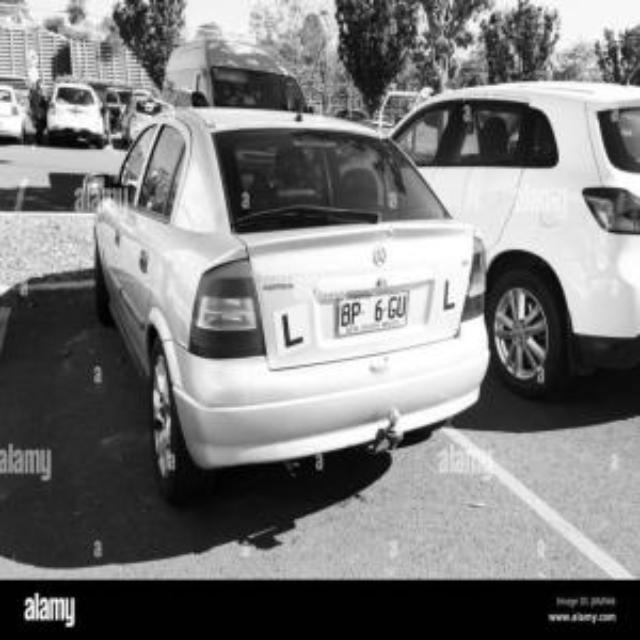License Plate: (338, 291, 410, 335)
